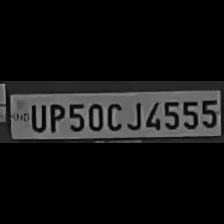0: (86, 100, 104, 132)
4: (142, 98, 160, 130)
5: (65, 100, 85, 132), (160, 98, 178, 130), (180, 97, 198, 128), (200, 97, 218, 128)
C: (104, 99, 122, 131)
J: (124, 98, 142, 132)
P: (46, 100, 64, 134)
U: (27, 102, 46, 132)
